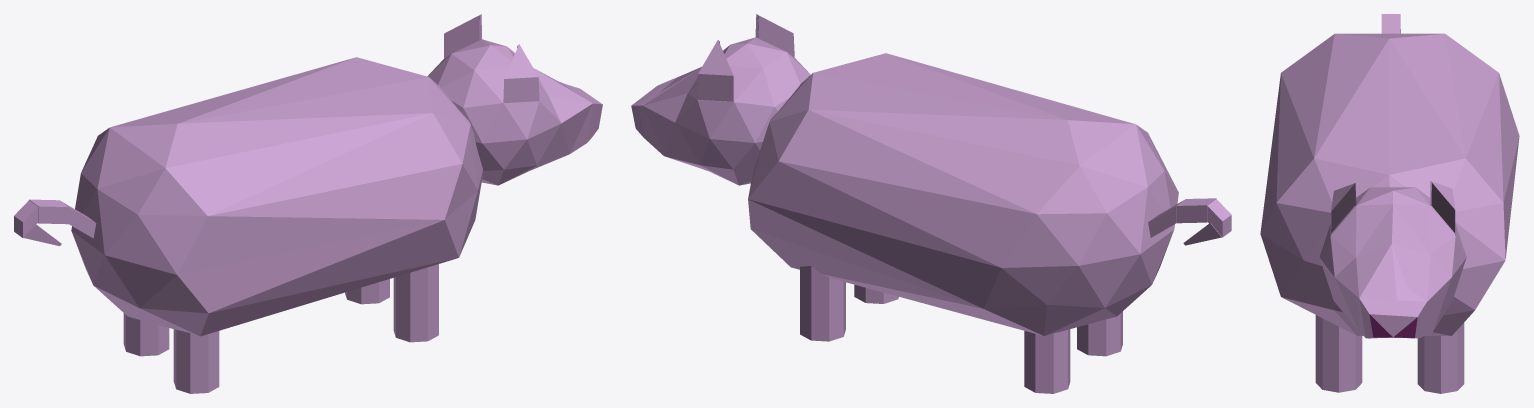
The model's file is pig.fbx.
3 views of the same model, side by side, from view 1: azimuth 30°, elevation 25°; view 2: azimuth 150°, elevation 25°; view 3: azimuth 270°, elevation 25° (orthographic).
Visible parts, largest first — view 1: Body, Head, RightFrontLeg, RightBackLeg, LeftBackLeg, LeftFrontLeg, Cube.001, Cube.002, Cube; view 2: Body, Head, LeftFrontLeg, LeftBackLeg, RightBackLeg, Cube.001, Cube.002, Cube, RightFrontLeg; view 3: Body, Head, RightFrontLeg, LeftFrontLeg, Cube.001.
Boxes of the visible parts, <box> form: Body: <box>71,57,482,336</box>; Head: <box>427,14,602,185</box>; RightFrontLeg: <box>393,264,438,342</box>; RightBackLeg: <box>173,329,219,393</box>; LeftBackLeg: <box>123,313,169,356</box>; LeftFrontLeg: <box>345,279,389,304</box>; Cube.001: <box>29,199,68,224</box>; Cube.002: <box>14,200,38,237</box>; Cube: <box>59,200,96,238</box>; Body: <box>748,53,1178,335</box>; Head: <box>631,14,810,185</box>; LeftFrontLeg: <box>800,266,845,341</box>; LeftBackLeg: <box>1024,329,1070,393</box>; RightBackLeg: <box>1077,311,1122,356</box>; Cube.001: <box>1176,198,1216,223</box>; Cube.002: <box>1207,199,1231,237</box>; Cube: <box>1148,200,1183,237</box>; RightFrontLeg: <box>854,284,898,303</box>; Body: <box>1260,33,1519,335</box>; Head: <box>1319,180,1466,338</box>; RightFrontLeg: <box>1315,315,1362,392</box>; LeftFrontLeg: <box>1417,322,1464,393</box>; Cube.001: <box>1381,14,1400,33</box>.
Bounding box in the file's own units: 614 × 263 × 241.
